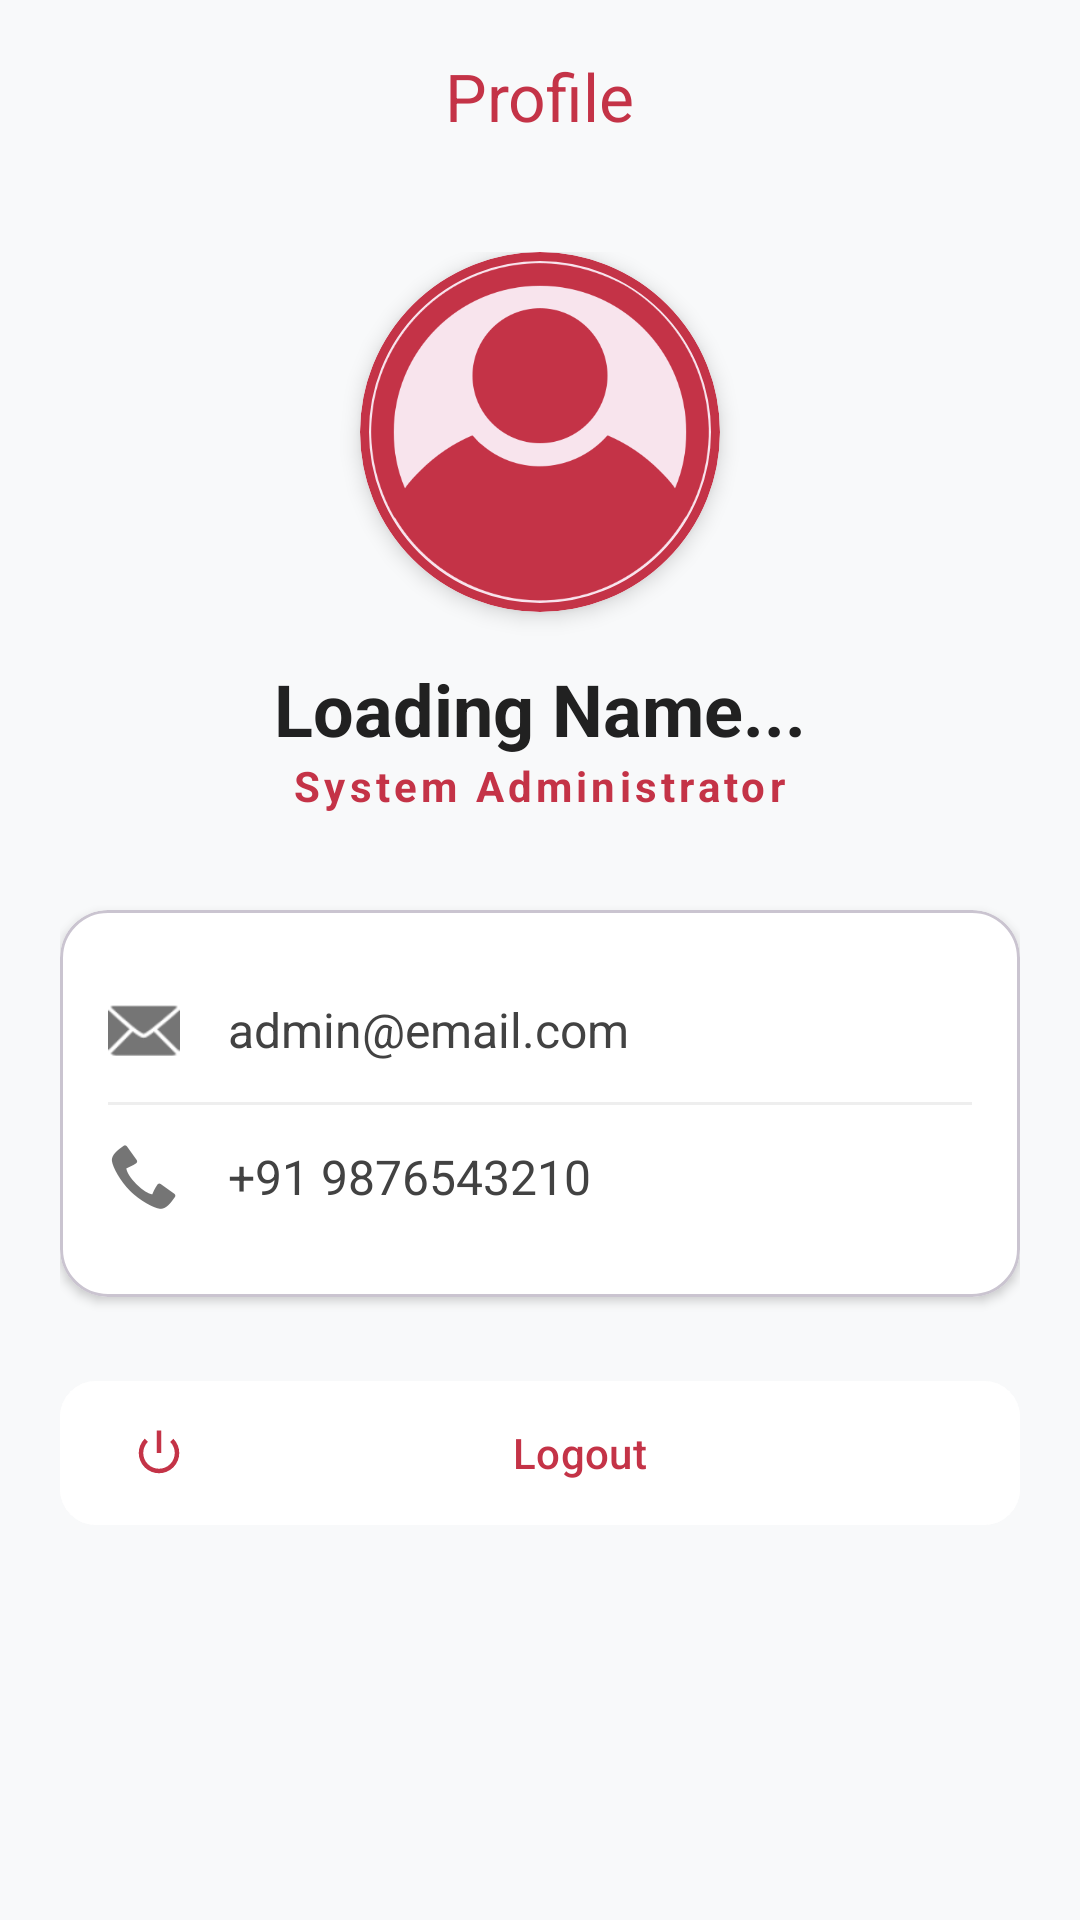

Named icons in this screenshot (1080w x 1920h) and their centers, point (x, y):
phone call: point (144, 1177)
user: point (540, 432)
